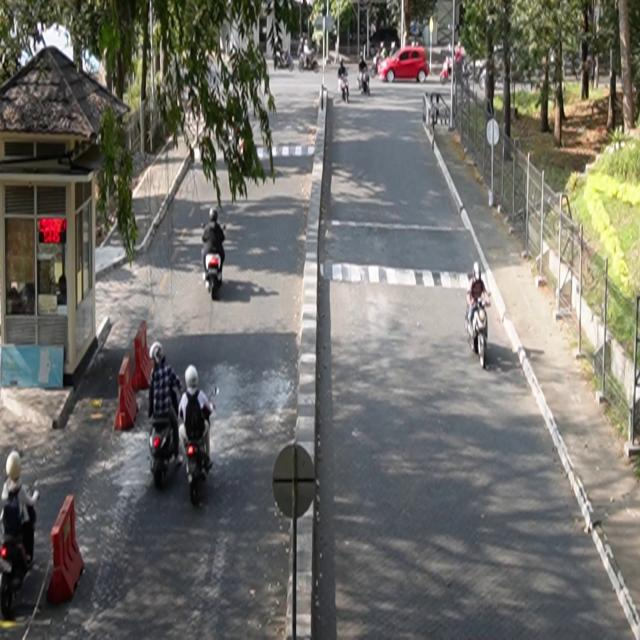car: (379, 46, 431, 84)
